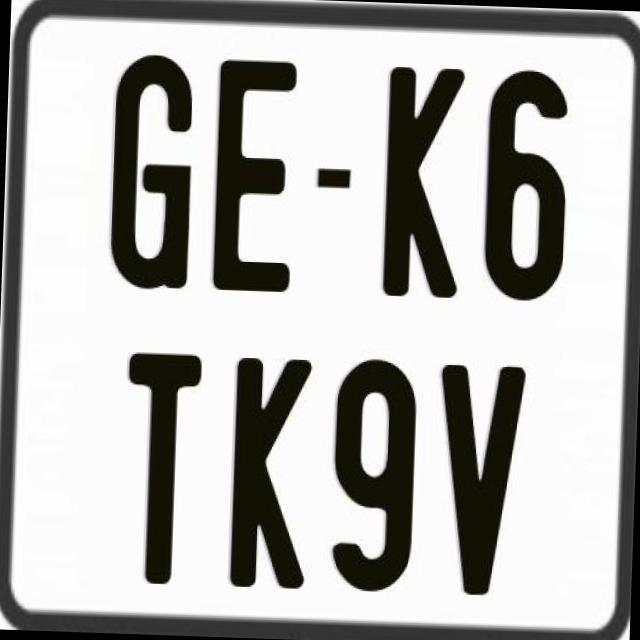6: (478, 68, 566, 308)
9: (329, 356, 424, 594)
E: (212, 58, 298, 296)
G: (108, 50, 196, 287)
K: (380, 66, 470, 304), (225, 357, 308, 591)
T: (117, 349, 199, 589)
V: (432, 362, 526, 602)
